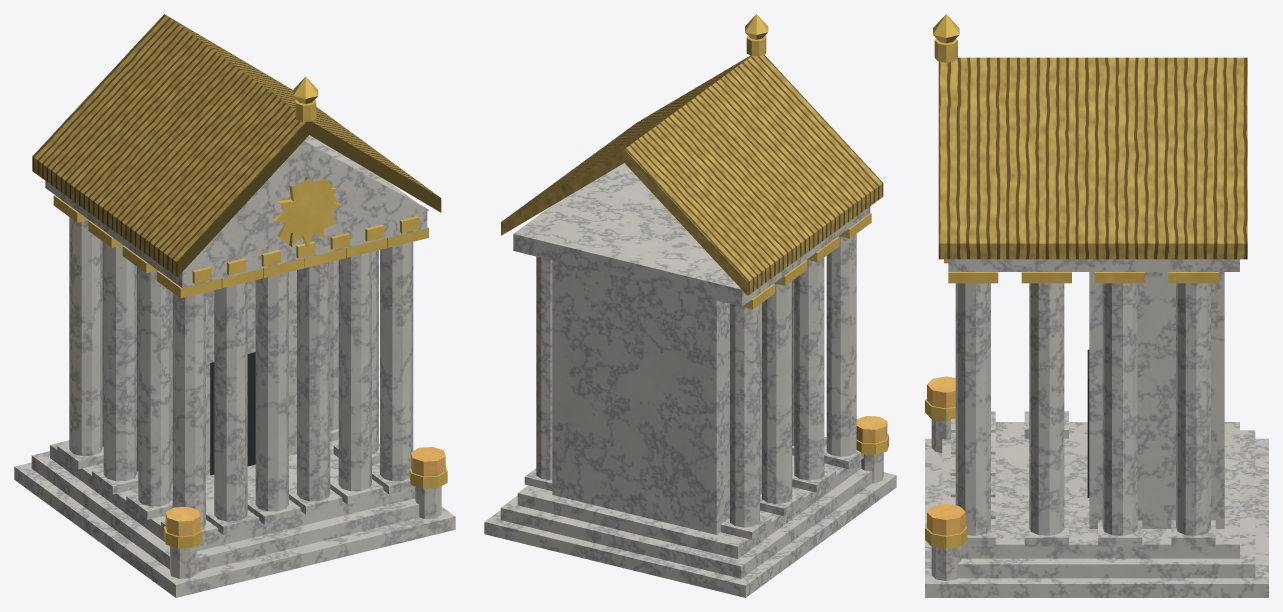
The model's file is 상점_영원강화소.fbx.
3 views of the same model, side by side, from view 1: azimuth 30°, elevation 25°; view 2: azimuth 150°, elevation 25°; view 3: azimuth 270°, elevation 25° (orthographic). The views are drawn at different scales.
Parts seen in each view (by area): view 1: 상점_영원강화소; view 2: 상점_영원강화소; view 3: 상점_영원강화소.
Boxes of the visible parts, x1=… form: 상점_영원강화소: x1=14, y1=14, x2=455, y2=597; 상점_영원강화소: x1=484, y1=14, x2=896, y2=597; 상점_영원강화소: x1=925, y1=14, x2=1268, y2=597.
Bounding box in the file's own units: 890 × 1460 × 890.
5 materials, 5 textured.
